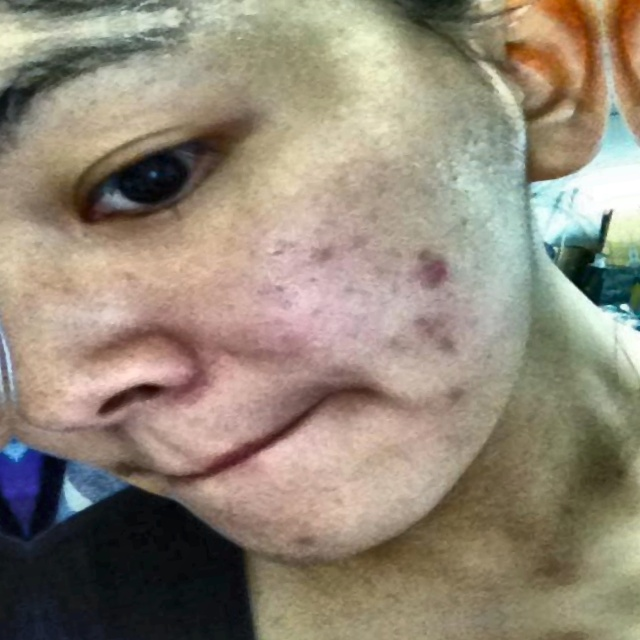comedone: (407, 308, 458, 358), (405, 245, 451, 289), (282, 529, 321, 560)
